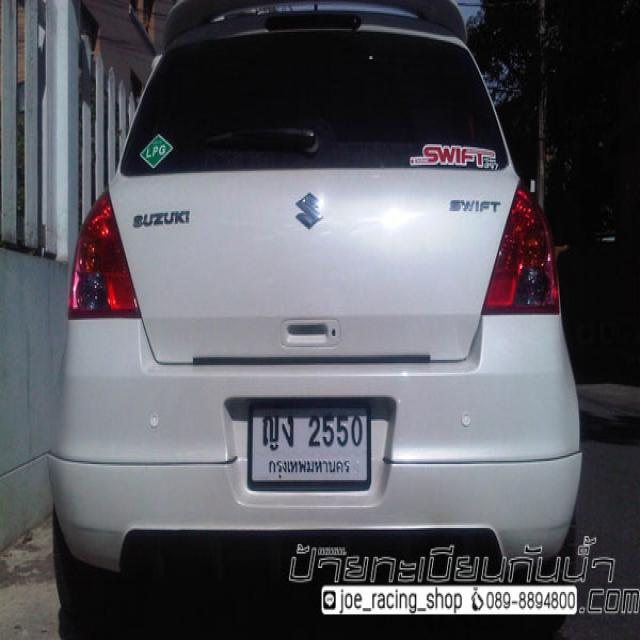license_plate: (246, 399, 372, 490)
